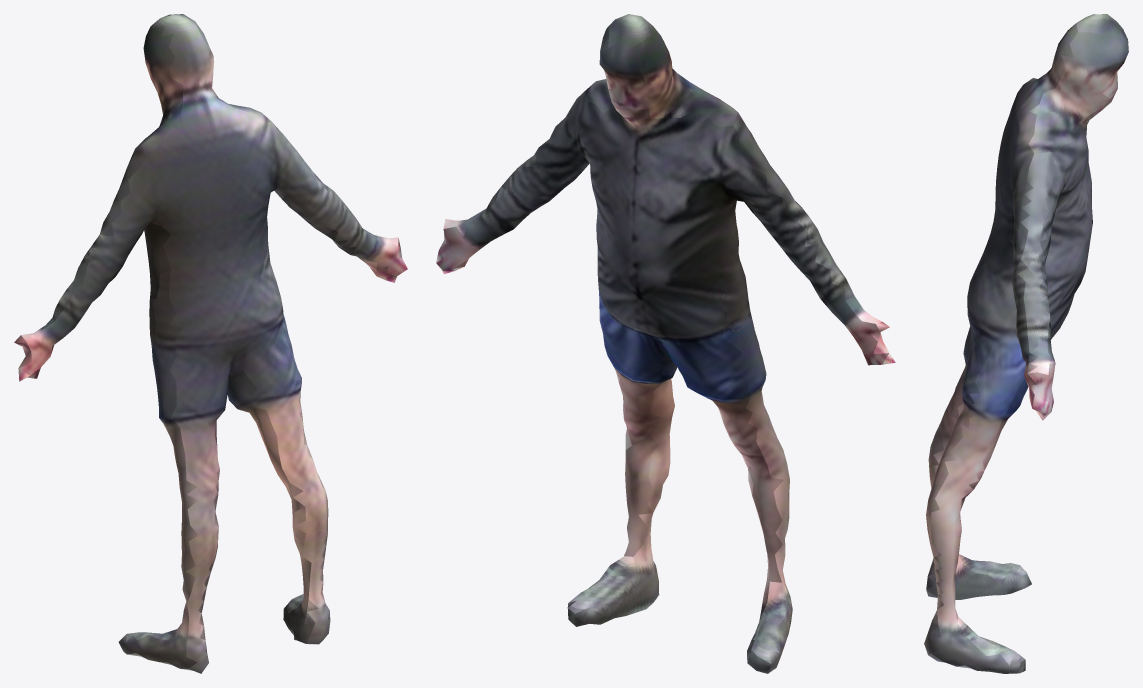
3 renders of one model, left to right at view 1: azimuth 30°, elevation 25°; view 2: azimuth 150°, elevation 25°; view 3: azimuth 270°, elevation 25°, orthographic. The views are drawn at different scales.
Visible parts, largest first — view 1: world; view 2: world; view 3: world.
Part boxes in pixels (x1=…): world: x1=14, y1=14, x2=407, y2=673; world: x1=436, y1=14, x2=895, y2=673; world: x1=924, y1=14, x2=1128, y2=673.
Bounding box in the file's own units: 0.6953 × 0.9878 × 0.2983.
Materials: 1 (1 with a texture image).
